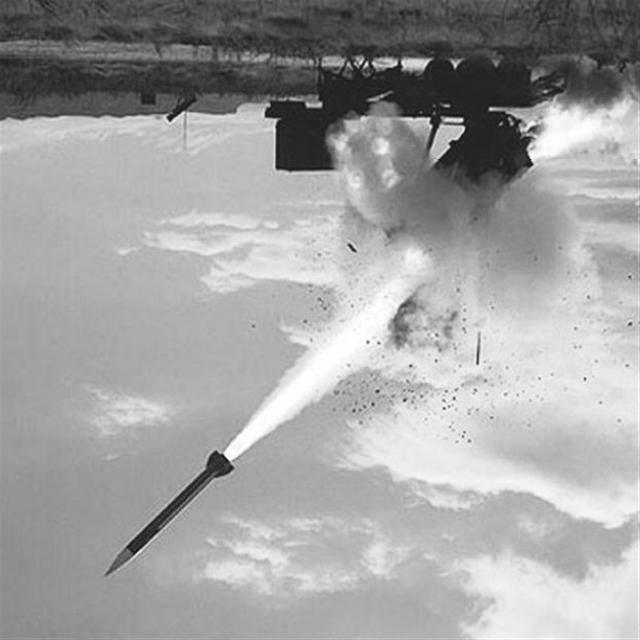missile: (99, 445, 240, 582)
